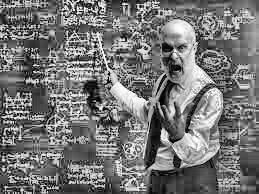angry: (143, 25, 208, 90)
